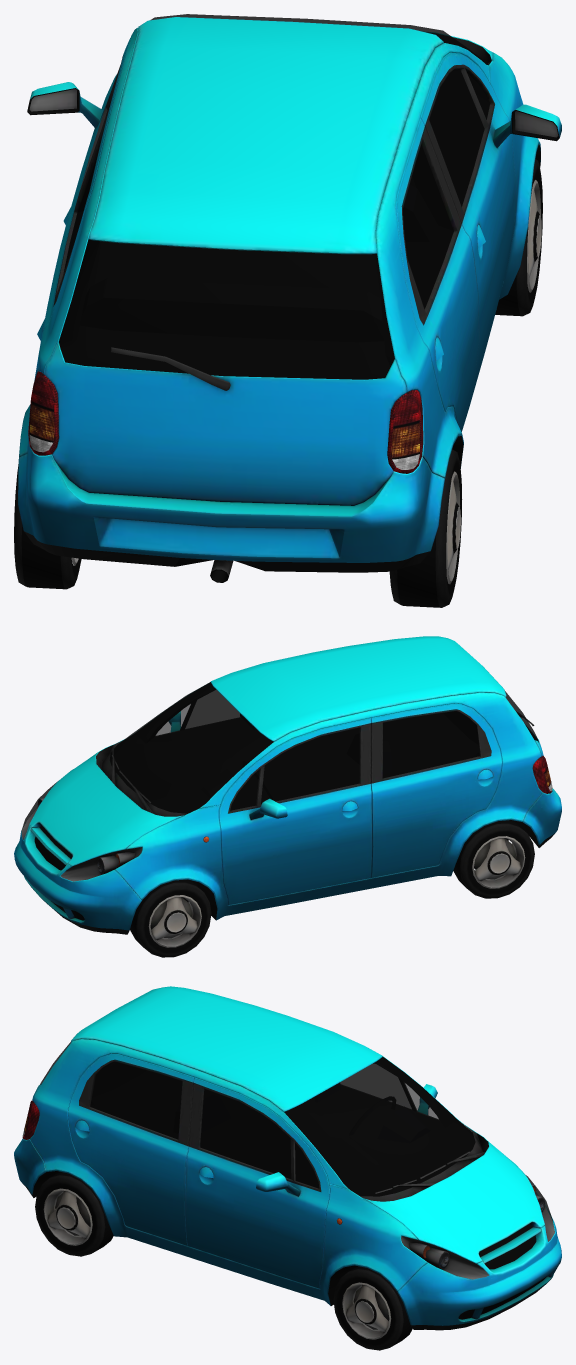
Rendered from compact.glb.
3 renders of one model, top to bottom at view 1: azimuth 30°, elevation 25°; view 2: azimuth 150°, elevation 25°; view 3: azimuth 270°, elevation 25°, orthographic. The views are drawn at different scales.
Parts seen in each view (by area): view 1: Compact Body, Wheel_C002, Wheel_C003, Wheel_C001; view 2: Compact Body, Wheel_C, Wheel_C001; view 3: Compact Body, Wheel_C003, Wheel_C002.
Boxes of the visible parts, x1,y1,x2,y2 form: Compact Body: (18,14,561,582); Wheel_C002: (389,449,462,607); Wheel_C003: (495,159,542,316); Wheel_C001: (14,464,81,589); Compact Body: (14,636,561,934); Wheel_C: (130,879,211,957); Wheel_C001: (453,820,534,898); Compact Body: (14,986,561,1330); Wheel_C003: (333,1266,412,1350); Wheel_C002: (35,1172,113,1256).
Size of the model in its own units: 2.65 by 1.32 by 3.07.
Materials: 4 (3 with a texture image).
